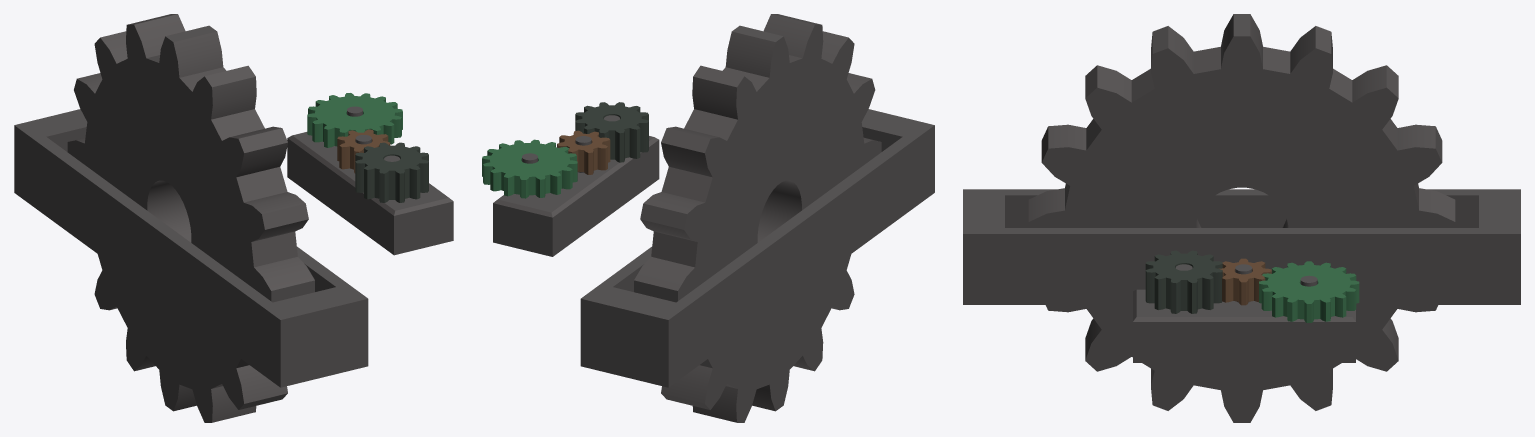
File: PuzzleBridge.fbx
3 renders of one model, left to right at view 1: azimuth 30°, elevation 25°; view 2: azimuth 150°, elevation 25°; view 3: azimuth 270°, elevation 25°, orthographic. The views are drawn at different scales.
Parts seen in each view (by area): view 1: pGear1, pCube1, polySurface1, polySurface6, polySurface7, polySurface3; view 2: pGear1, pCube1, polySurface1, polySurface7, polySurface6, polySurface3; view 3: pGear1, pCube1, polySurface1, polySurface7, polySurface6, polySurface3.
Boxes of the visible parts, box(x1,y1,x2,y2) form: pGear1: box(67, 14, 314, 422); pCube1: box(14, 109, 368, 387); polySurface1: box(287, 106, 453, 255); polySurface6: box(355, 142, 428, 202); polySurface7: box(307, 93, 402, 147); polySurface3: box(337, 129, 390, 173); pGear1: box(634, 14, 881, 422); pCube1: box(580, 109, 934, 387); polySurface1: box(493, 115, 659, 256); polySurface7: box(482, 139, 577, 198); polySurface6: box(575, 102, 648, 162); polySurface3: box(557, 130, 610, 174); pGear1: box(1028, 14, 1455, 422); pCube1: box(963, 189, 1520, 304); polySurface1: box(1133, 264, 1355, 362); polySurface7: box(1259, 261, 1359, 322); polySurface6: box(1145, 250, 1222, 313); polySurface3: box(1219, 258, 1271, 305).
Bounding box in the file's own units: 3.2 × 4.01 × 5.25.
